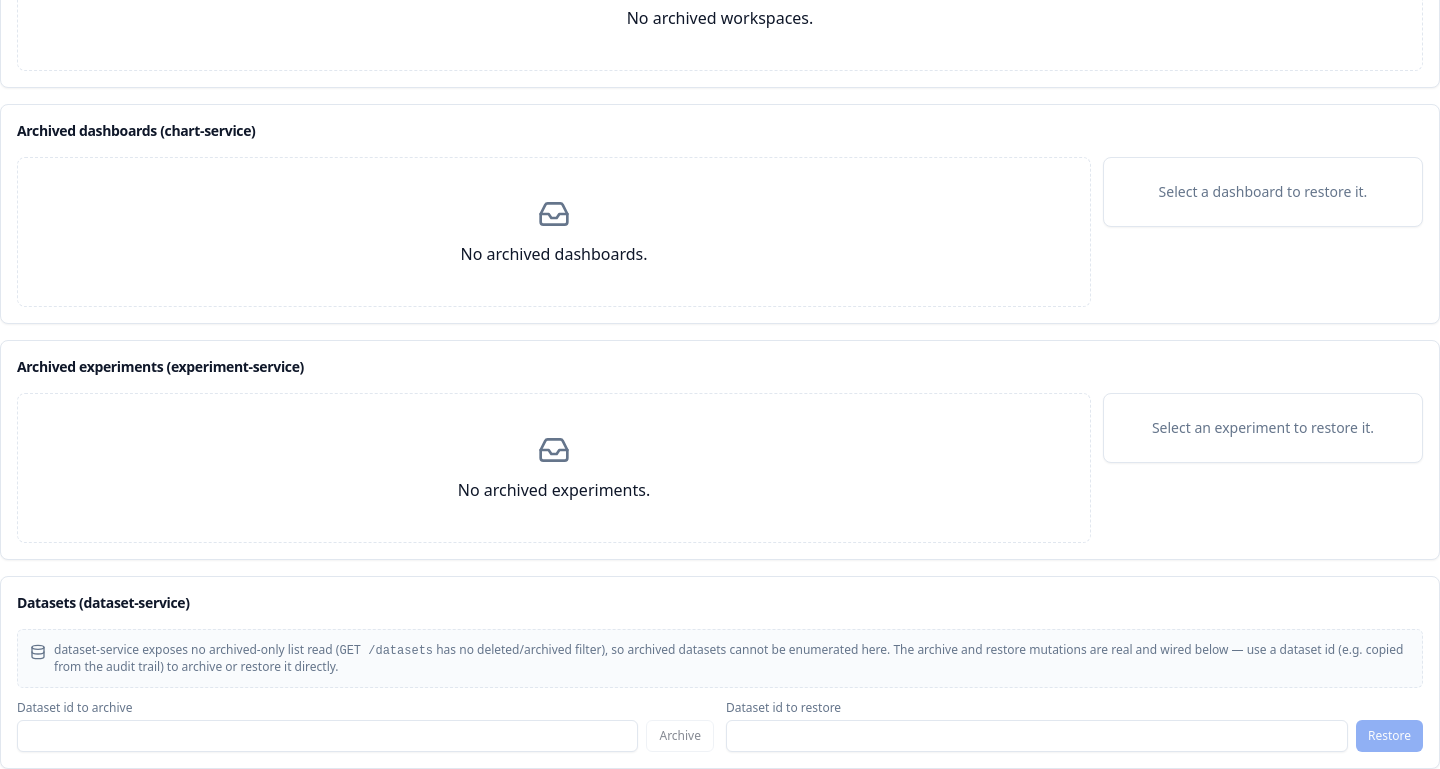
it: Admin Archive page › restores a dataset by id and shows its (possibly renamed) new name
The width and height of the screenshot is (1440, 769).
(page scrolled)
Type "ds-7" into the field labelled "Dataset id to restore". click: [1037, 736]
box: [726,720,1348,752]
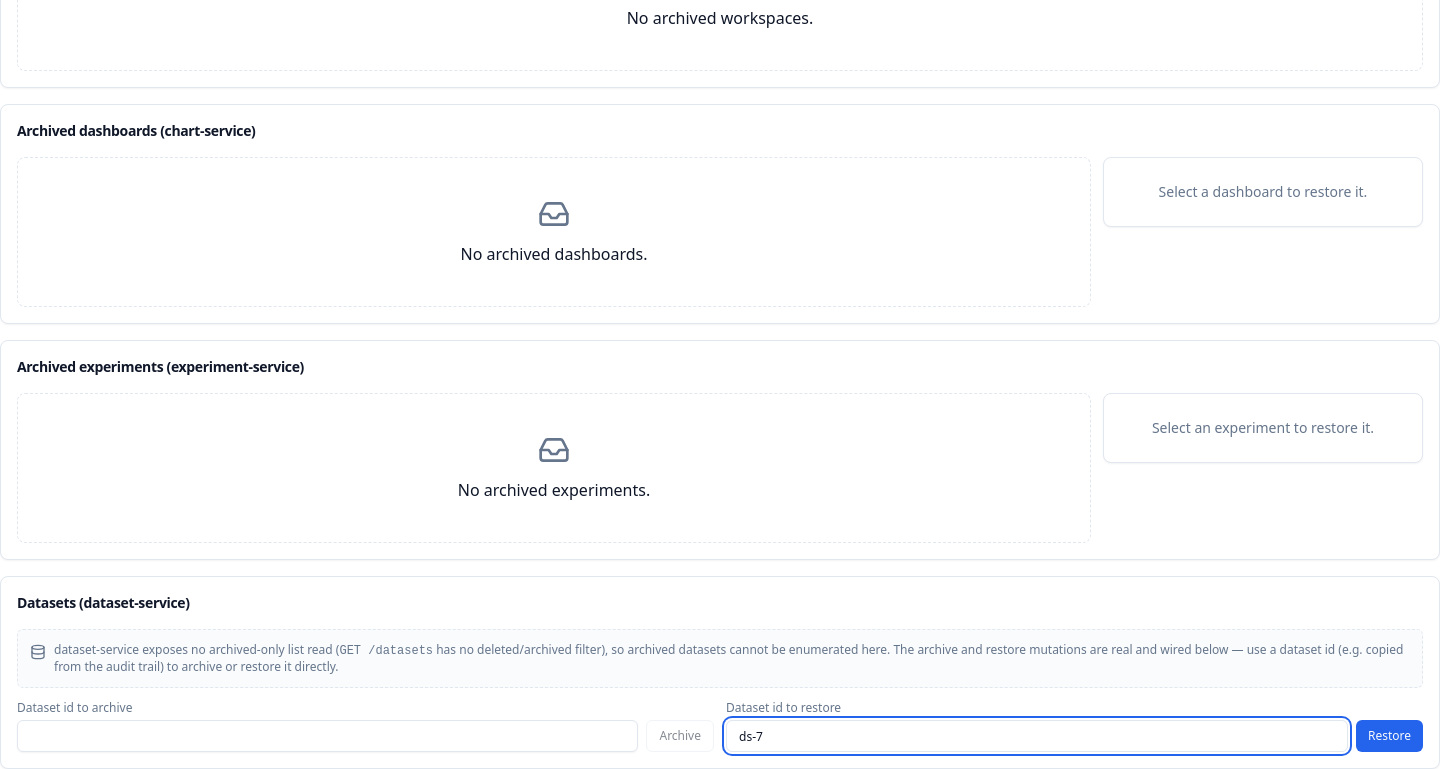
Click the button "Restore". click: [1389, 736]
box: [1356,720,1423,752]
(page scrolled)
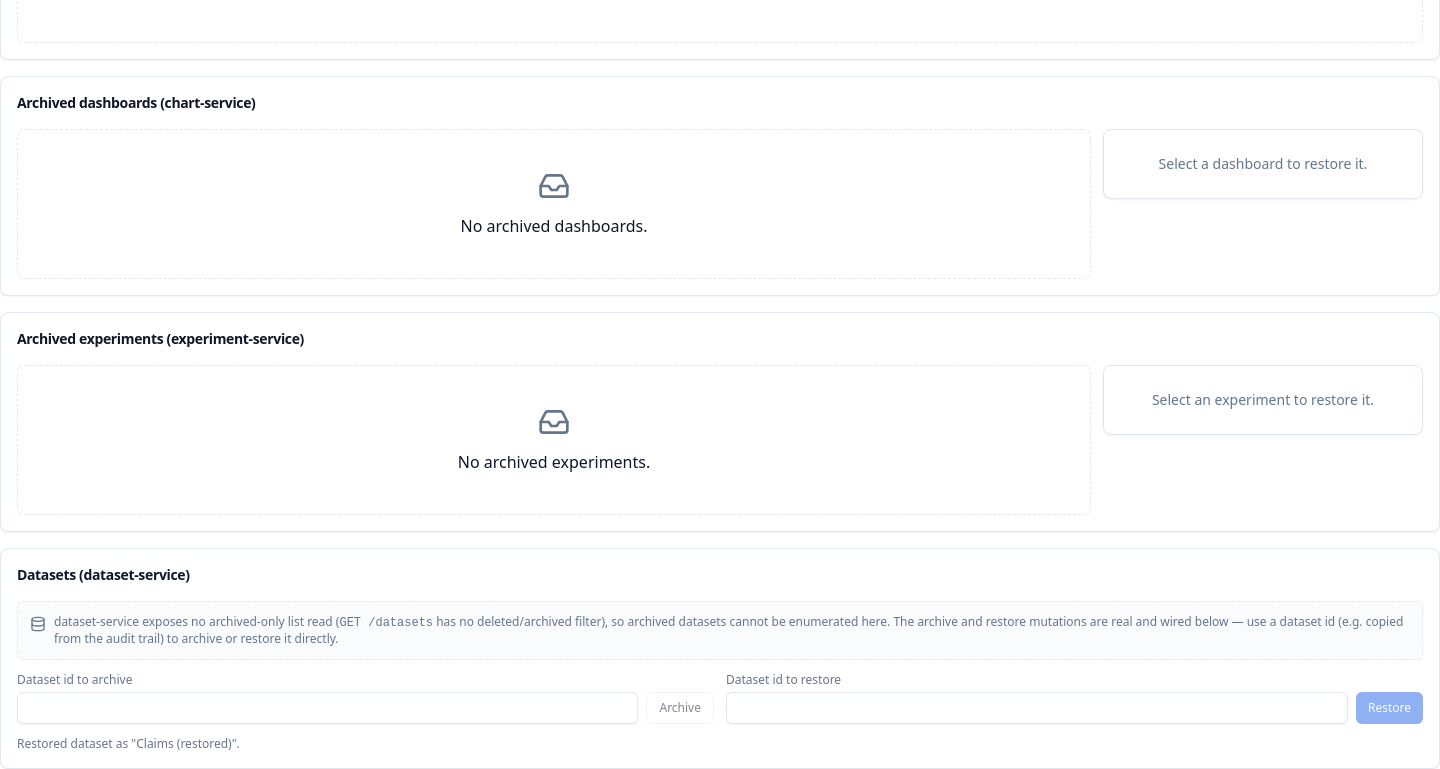
Check: the text "Restored dataset as \"Claims (restored)\"." is shown, box [17,735,240,752]
